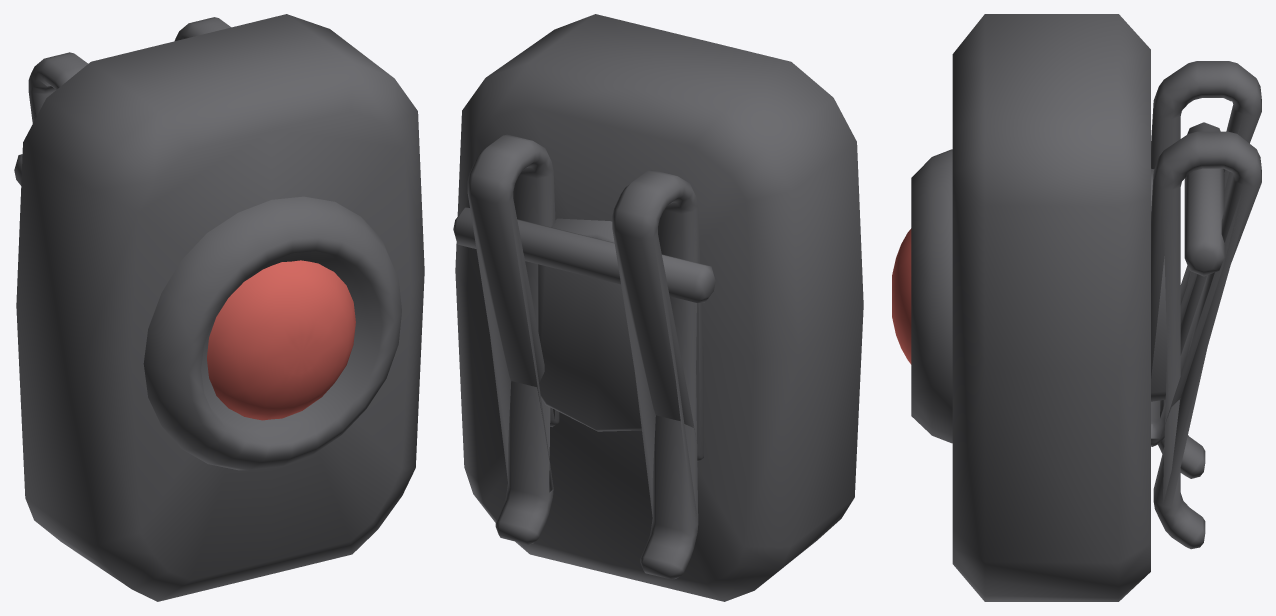
Rendered from motion_detector.glb.
3 renders of one model, left to right at view 1: azimuth 30°, elevation 25°; view 2: azimuth 150°, elevation 25°; view 3: azimuth 270°, elevation 25°, orthographic.
Parts seen in each view (by area): view 1: motion_detector; view 2: motion_detector; view 3: motion_detector.
Part boxes in pixels (x1,y1,x2,y2): motion_detector: (14,14,424,601); motion_detector: (453,14,863,601); motion_detector: (892,14,1261,601).
Bounding box in the file's own units: 0.1509 × 0.2061 × 0.1401.
